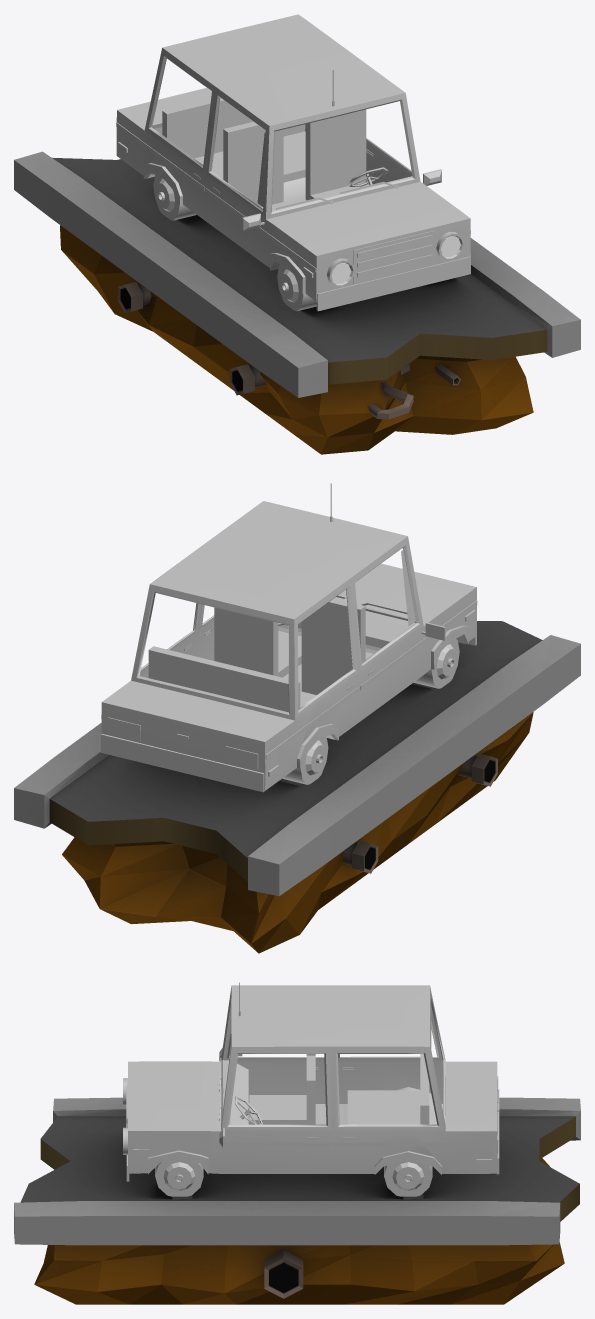
Rendered from masina4_sk.FBX.
3 renders of one model, top to bottom at view 1: azimuth 30°, elevation 25°; view 2: azimuth 150°, elevation 25°; view 3: azimuth 270°, elevation 25°, orthographic. The views are drawn at different scales.
Parts seen in each view (by area): view 1: platform, Box035; view 2: platform, Box035; view 3: platform, Box035.
Boxes of the visible parts, x1,y1,x2,y2 form: platform: [14, 151, 580, 454]; Box035: [116, 14, 470, 311]; platform: [14, 621, 580, 953]; Box035: [101, 483, 477, 792]; platform: [14, 1097, 580, 1304]; Box035: [123, 982, 499, 1196].
Bounding box in the file's own units: 74.41 × 84.45 × 150.
